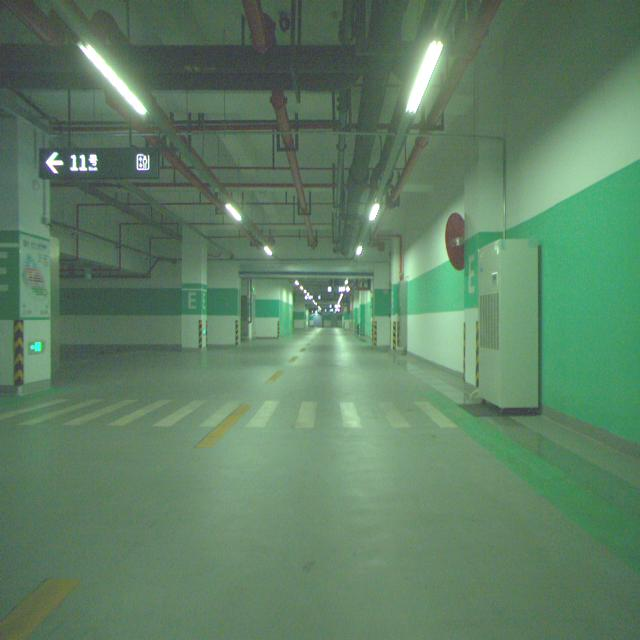pillar: (181, 228, 208, 348)
wall: (463, 157, 501, 399)
